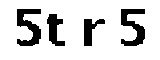5: (116, 3, 153, 51), (12, 6, 43, 50)
r: (77, 16, 108, 52)
t: (46, 10, 70, 49)
